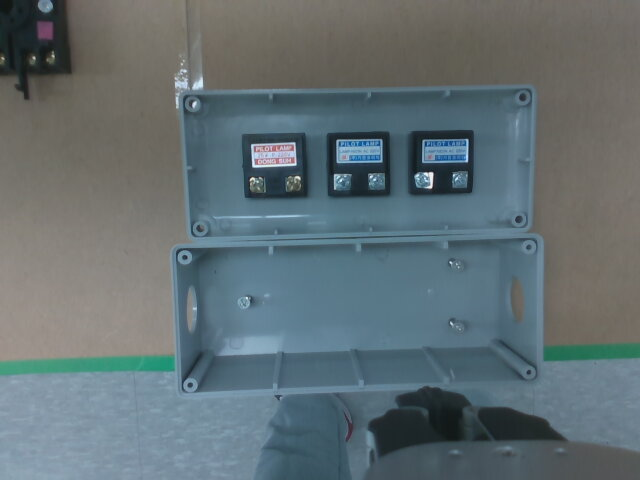L1(1): (248, 177, 265, 193)
L1(2): (285, 176, 301, 192)
L2(1): (333, 173, 351, 190)
L2(2): (368, 173, 385, 189)
L3(1): (416, 171, 433, 188)
L3(2): (452, 171, 468, 188)
